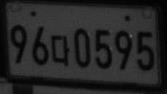0: (73, 27, 92, 68)
5: (136, 30, 155, 72), (94, 28, 113, 69)
6: (30, 26, 49, 65)
9: (113, 29, 133, 70), (9, 23, 28, 64)
다: (50, 33, 70, 66)
